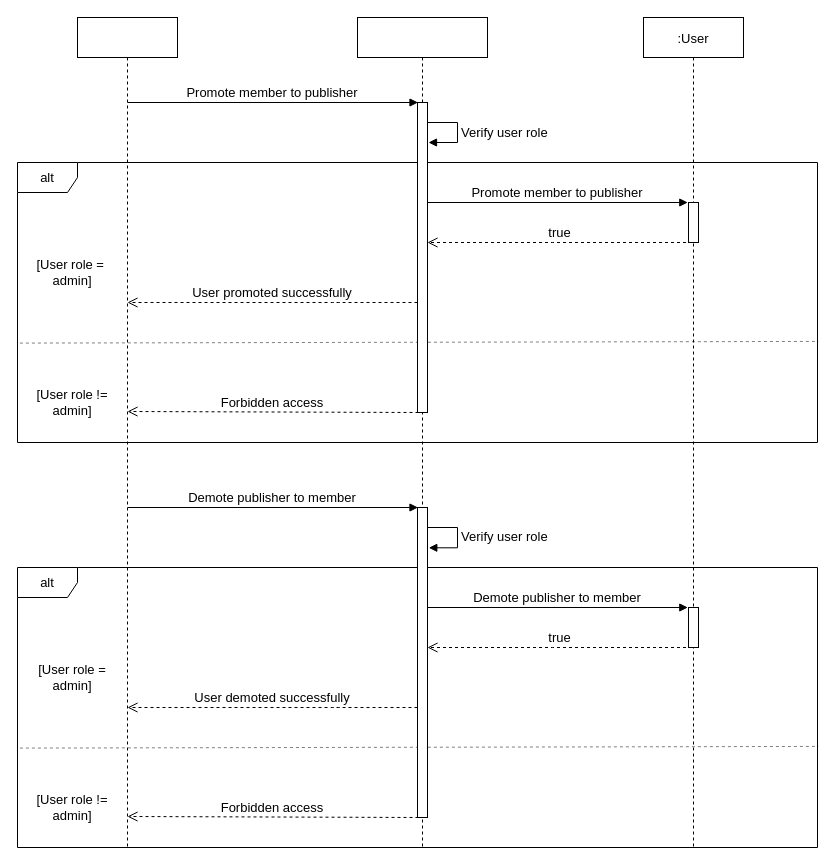
This 837x865 diagram has some shape labels left out. Here are the shapes that lost their labels. From the top down, the box of each, then its label:
(76, 16, 178, 848): :Connected user
(356, 16, 488, 848): :System
